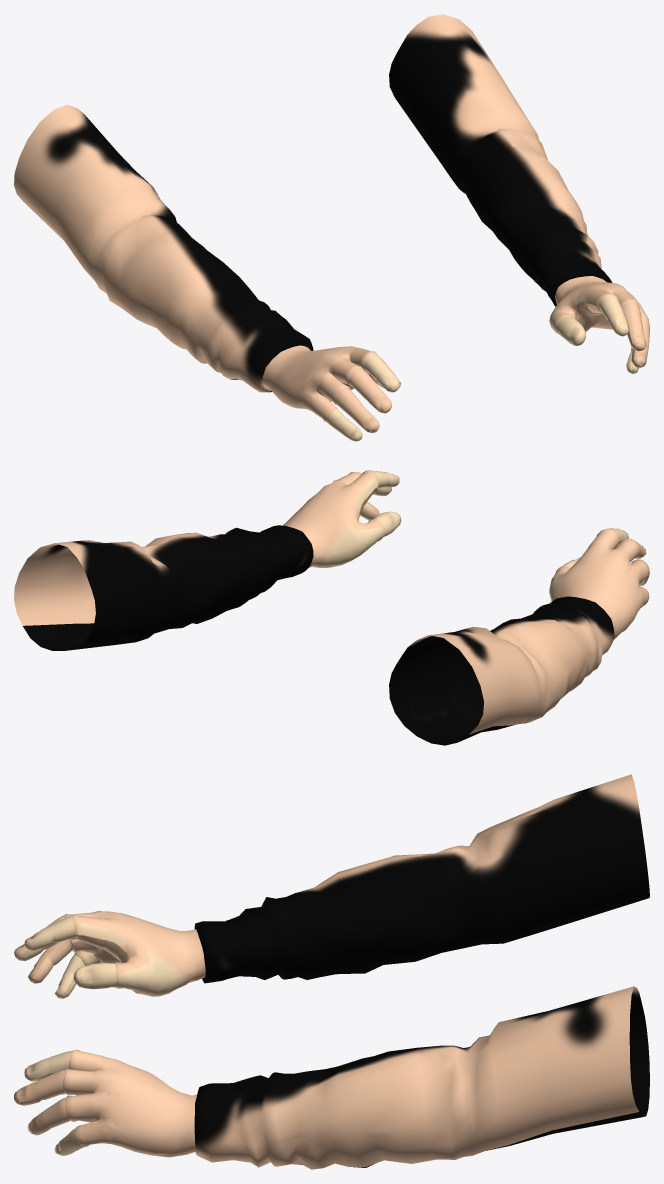
File: fps_arms (1).glb
The picture shows the model from 3 angles, top to bottom: view 1: azimuth 30°, elevation 25°; view 2: azimuth 150°, elevation 25°; view 3: azimuth 270°, elevation 25°; orthographic projection. The views are drawn at different scales.
Parts seen in each view (by area): view 1: armmesh_Mat_0_0; view 2: armmesh_Mat_0_0; view 3: armmesh_Mat_0_0.
Part boxes in pixels (left/top/right/bottom): armmesh_Mat_0_0: left=14, top=14, right=649, bottom=441; armmesh_Mat_0_0: left=14, top=470, right=649, bottom=745; armmesh_Mat_0_0: left=14, top=774, right=649, bottom=1169.
Size of the model in its own units: 60.47 by 20.44 by 61.14.
2 materials, 2 textured.
